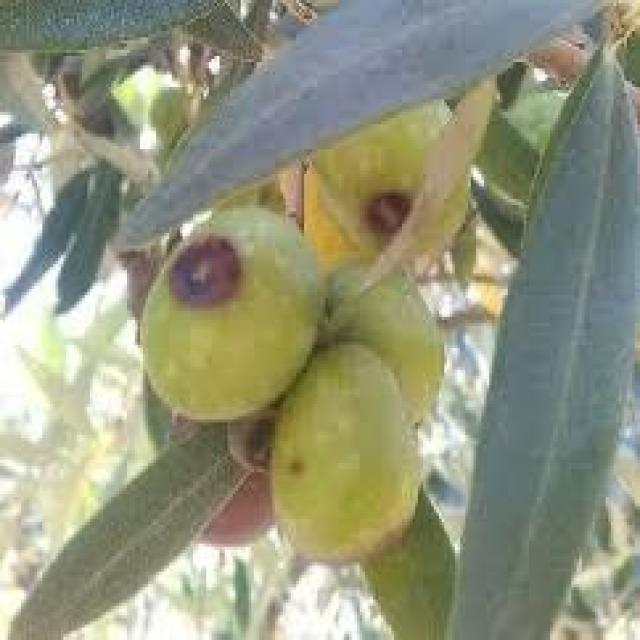Anthracnose: (140, 205, 325, 419)
